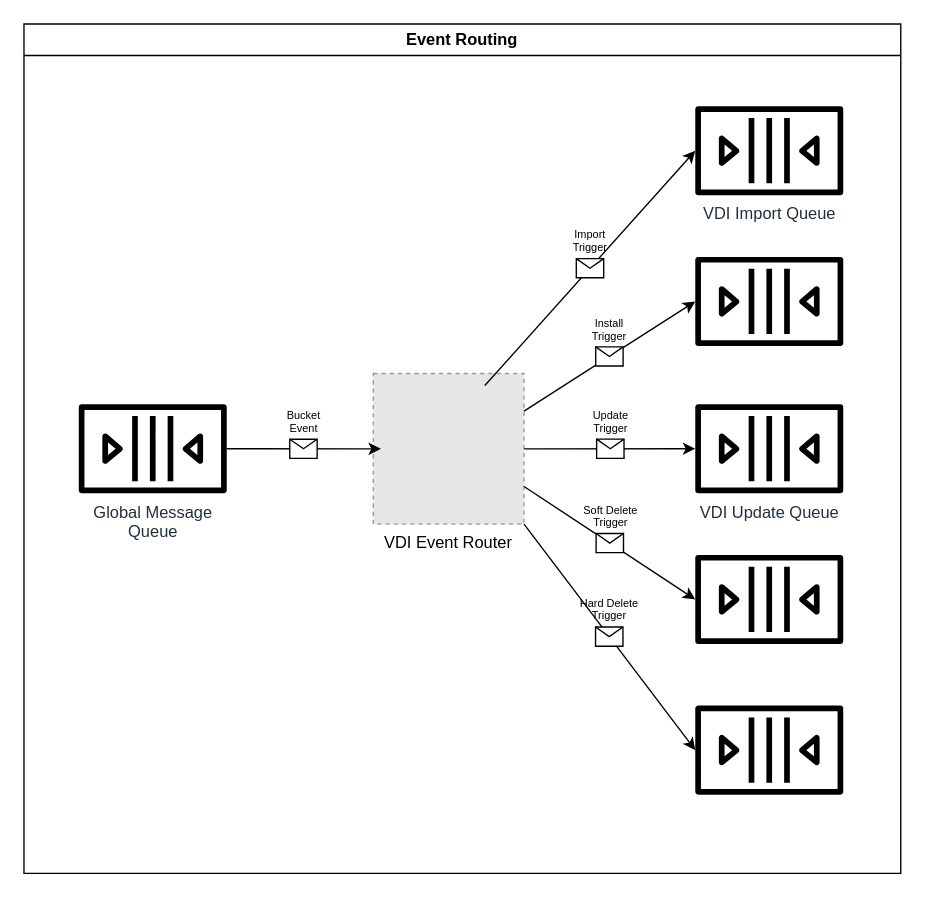
The diagram is 925 pixels wide and 897 high, and some of its shapes have lost their labels. Grey dashed boxes stand in for pictures. Here are the shapes that lost their labels. From the top down, the centre of each, then its label:
At point (769, 300): "VDI Install Queue".
At point (769, 598): "VDI Soft Delete Queue".
At point (769, 749): "VDI Hard Delete Queue".
